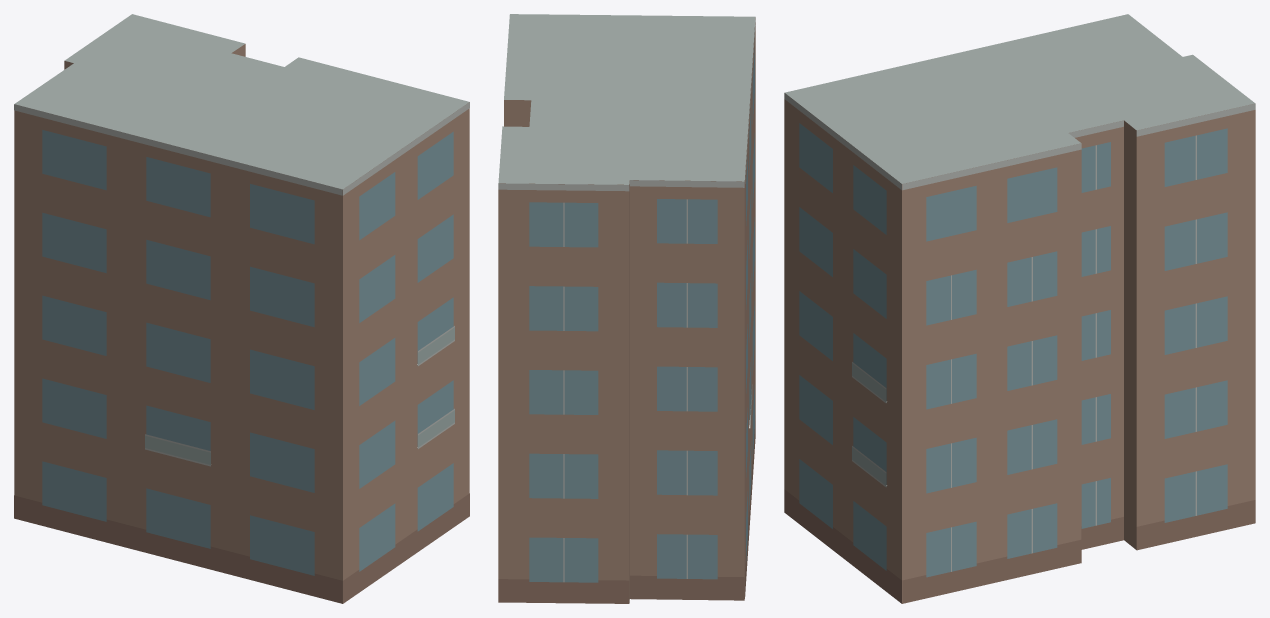
The model's file is survey-upis-32737202.glb.
The picture shows the model from 3 angles, left to right: view 1: azimuth 30°, elevation 25°; view 2: azimuth 150°, elevation 25°; view 3: azimuth 270°, elevation 25°; orthographic projection.
Visible parts, largest first — view 1: survey-upis-32737202.tmp; view 2: survey-upis-32737202.tmp; view 3: survey-upis-32737202.tmp.
Part boxes in pixels (x1,y1,x2,y2): survey-upis-32737202.tmp: (14,14,469,603); survey-upis-32737202.tmp: (498,14,755,603); survey-upis-32737202.tmp: (784,14,1255,603).
Bounding box in the file's own units: 13.99 × 16.1 × 16.38.
